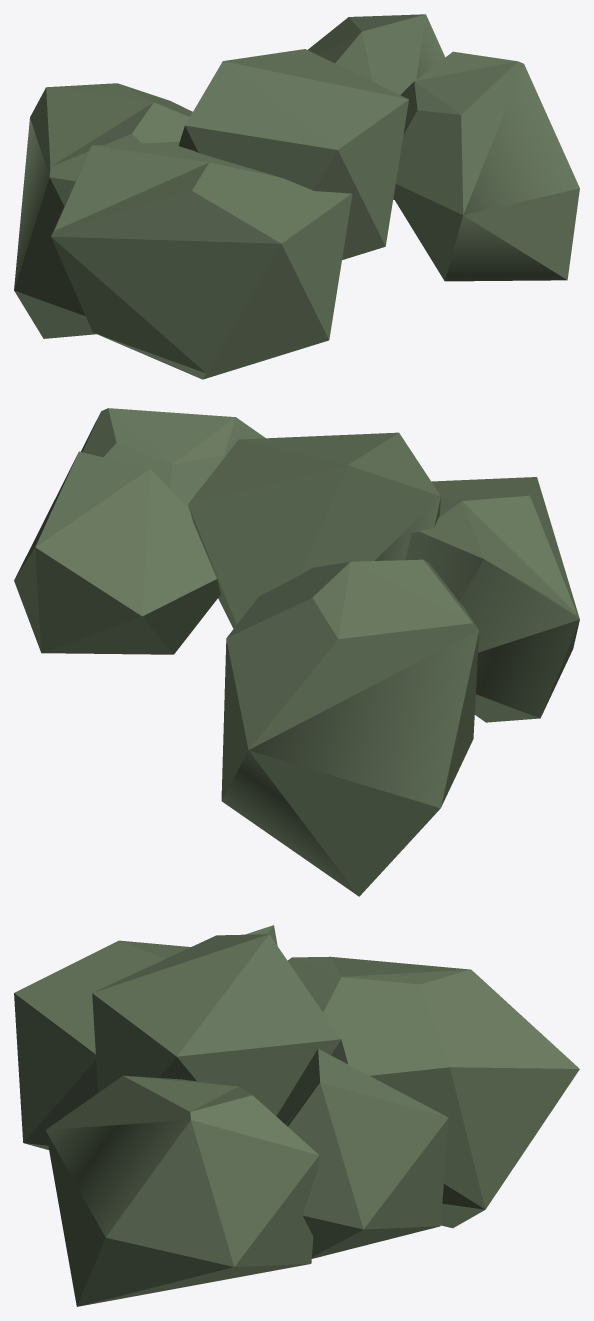
Rendered from Bush_7.fbx.
The picture shows the model from 3 angles, top to bottom: view 1: azimuth 30°, elevation 25°; view 2: azimuth 150°, elevation 25°; view 3: azimuth 270°, elevation 25°; orthographic projection. The views are drawn at different scales.
Visible parts, largest first — view 1: Bush13; view 2: Bush13; view 3: Bush13.
Boxes of the visible parts, bbox=[...] form: Bush13: bbox=[14, 14, 579, 379]; Bush13: bbox=[14, 408, 579, 896]; Bush13: bbox=[14, 925, 579, 1306].
Size of the model in its own units: 346 by 209 by 311.
